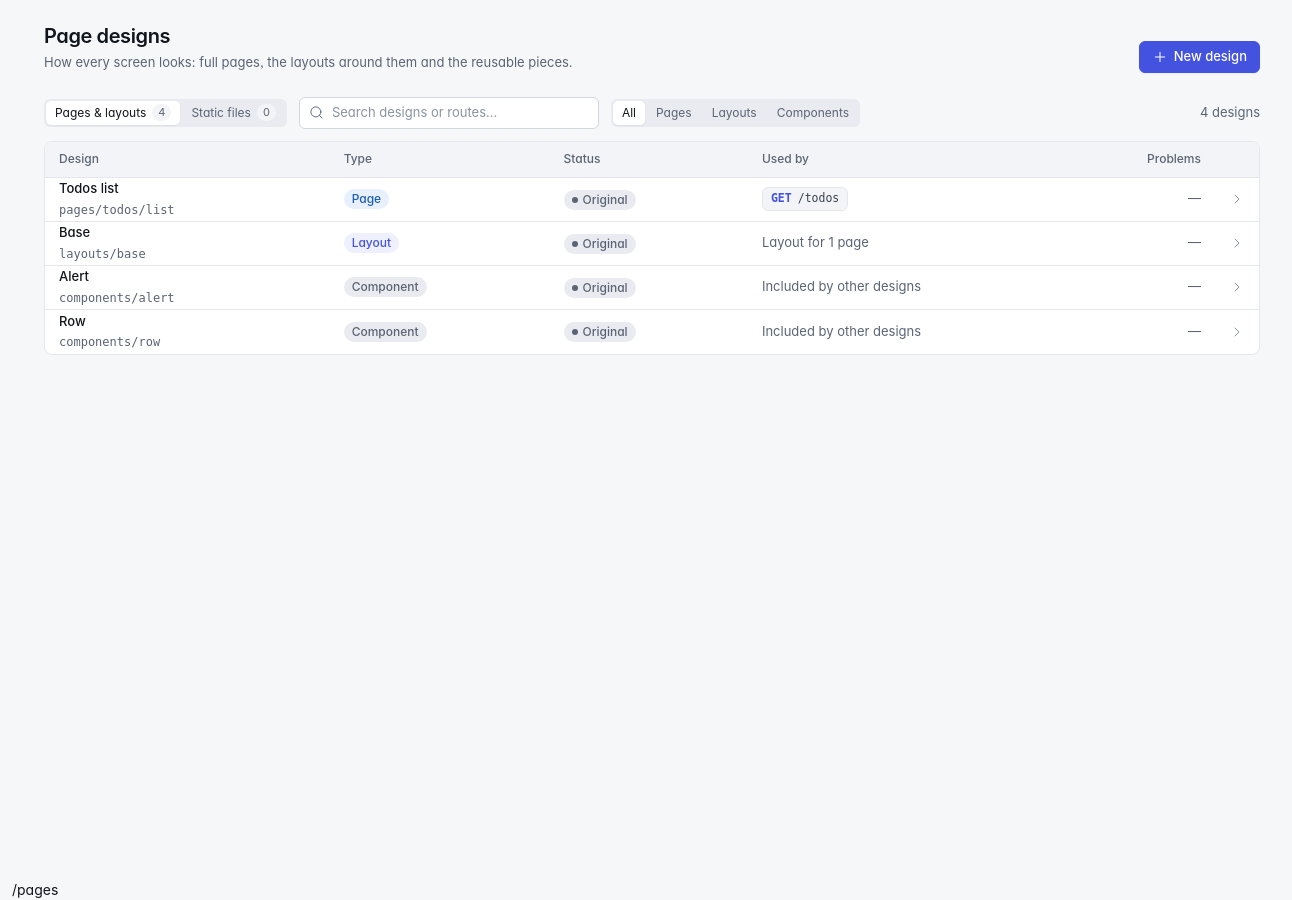
Scenario: Page designs list › says so when nothing matches
The width and height of the screenshot is (1292, 900).
Expected: the text "Todos list" is shown, [59, 180, 119, 196]
Type "zzzz" into the search field with placeholder "Search designs or routes…" at (449, 112), box [299, 96, 599, 128]
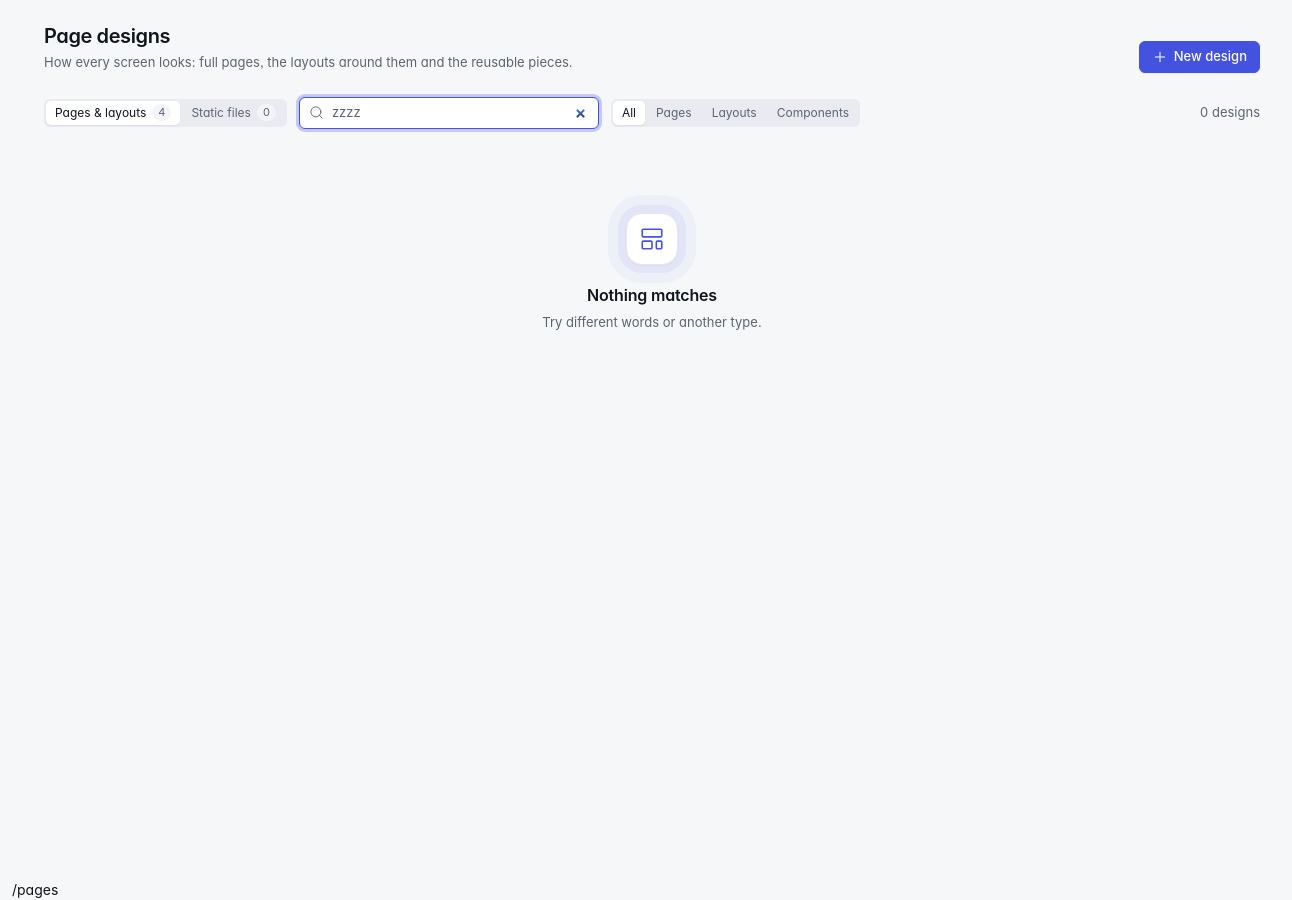
Expected: the heading "Nothing matches" is shown, [587, 284, 717, 305]
